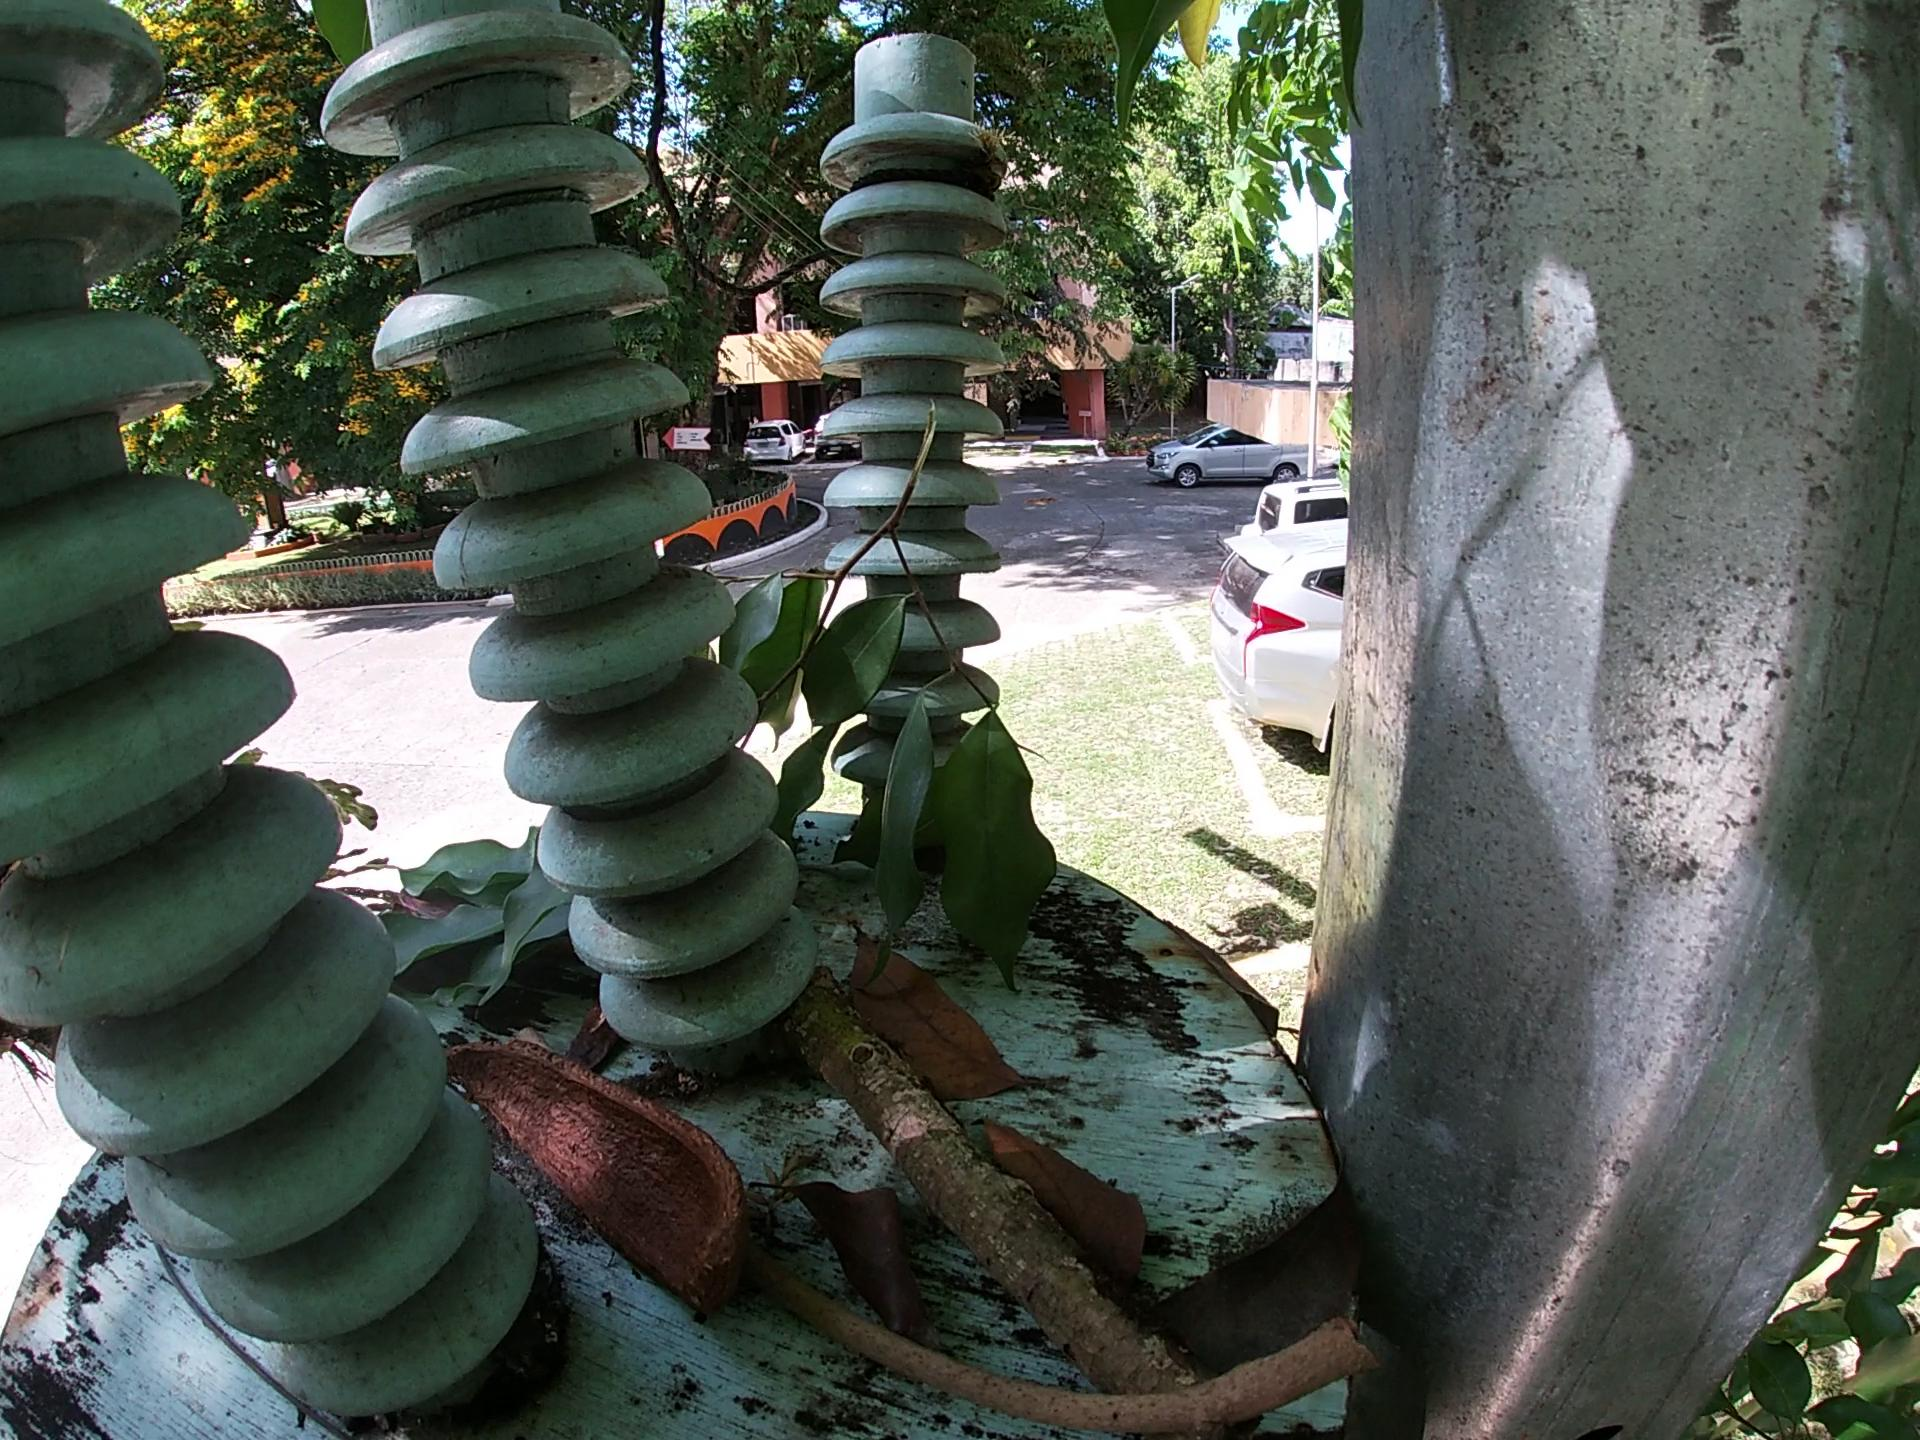branch with leaves: (717, 366, 1058, 970)
leaf: (364, 824, 621, 1029), (842, 917, 1043, 1113), (1147, 1178, 1367, 1355), (977, 1116, 1155, 1280), (785, 1168, 928, 1324)
mahogany fruit: (440, 1029, 735, 1301)
tree branch: (791, 989, 1191, 1392), (770, 1280, 1374, 1410), (130, 1221, 357, 1440)
